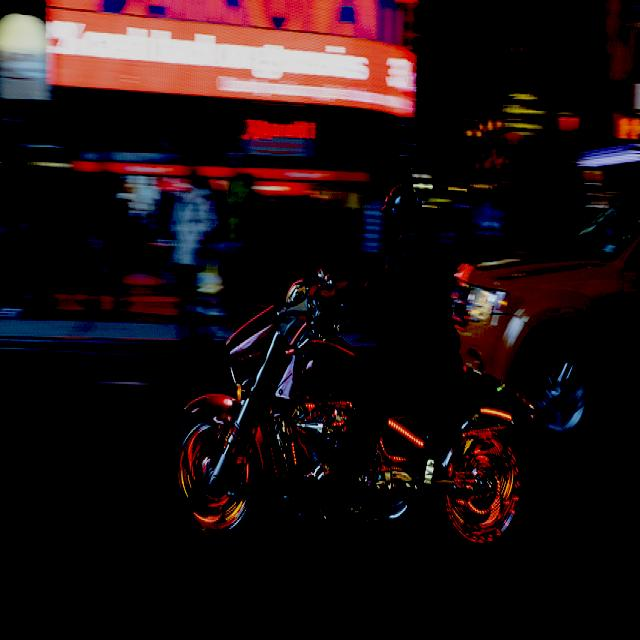Motorbike: (165, 251, 533, 567)
